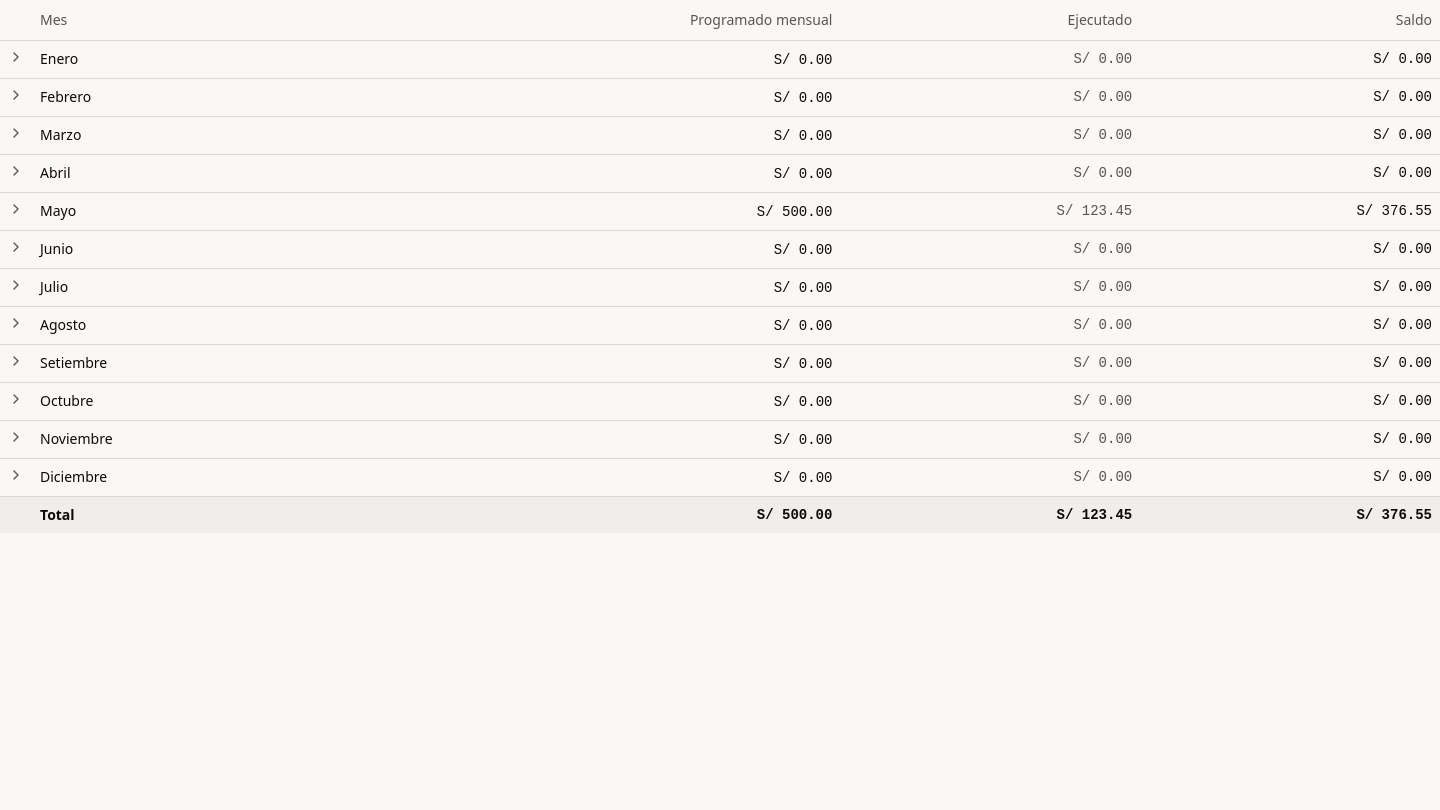
Test: MonthlyTable › keeps manual execution details static without request navigation
What coordinates should you click on to do the following:
click the text "Mayo"
I would click on:
 (58, 210)
Its box is [32,192,322,230].
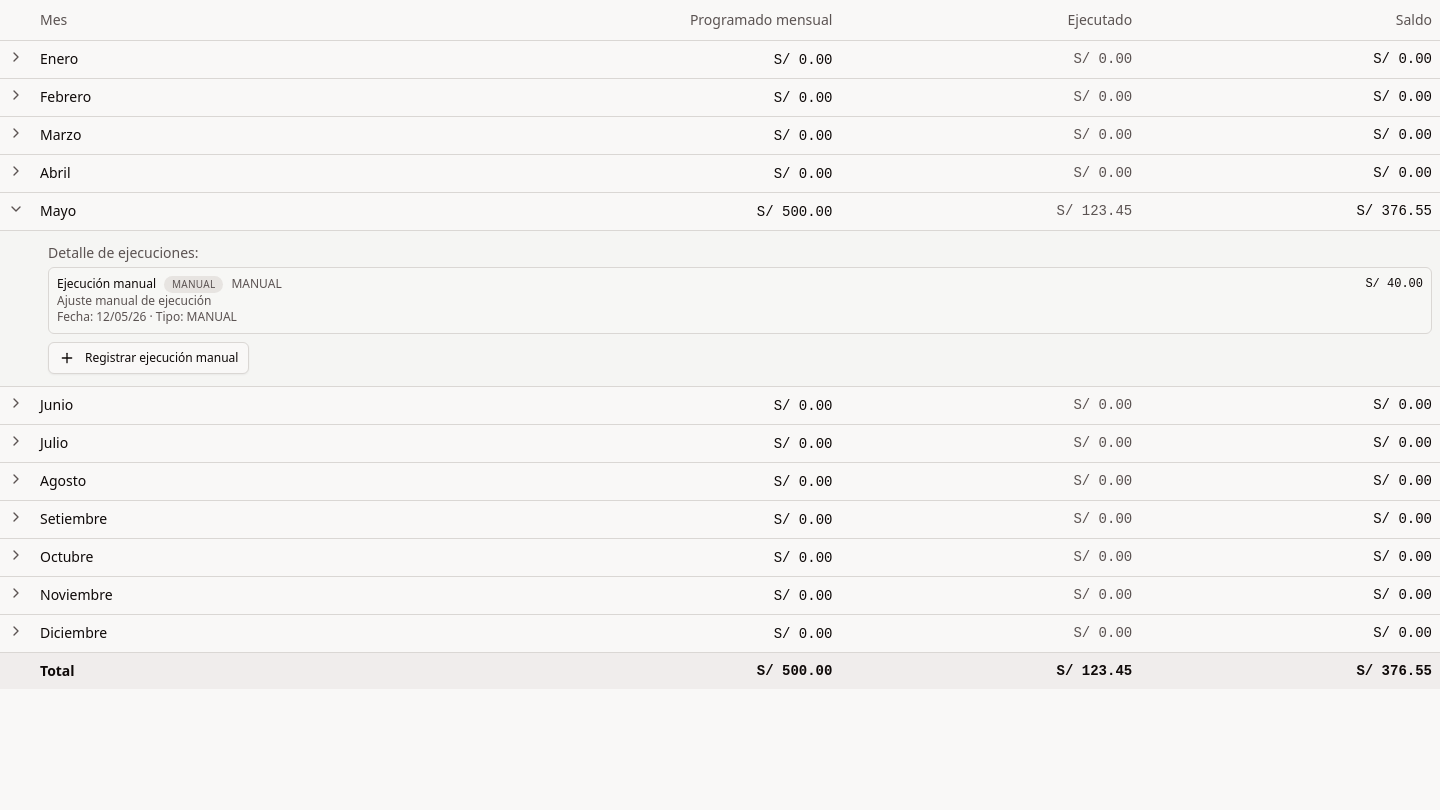
Check: the text "Ejecución manual" is shown, box [57,276,156,292]
Check: the text "Ajuste manual de ejecución" is shown, box [57,292,212,309]
